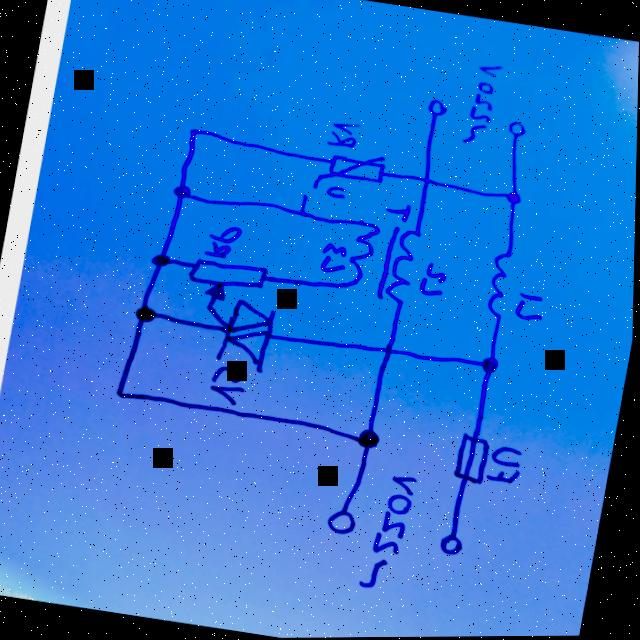crossover: (407, 166, 439, 197), (373, 335, 405, 365)
inductor: (483, 247, 520, 325)
junction: (132, 304, 162, 328), (357, 428, 384, 453), (477, 354, 502, 376), (150, 252, 173, 270), (110, 386, 133, 403), (505, 191, 526, 207), (184, 126, 204, 141), (171, 185, 191, 200)
resistor: (186, 255, 270, 307)
terminal: (325, 507, 364, 538), (438, 529, 468, 559), (503, 120, 530, 145), (423, 98, 450, 123)
text: (359, 472, 421, 594), (463, 61, 503, 150), (485, 444, 528, 488), (207, 366, 251, 408), (203, 223, 245, 262), (318, 242, 353, 278), (326, 119, 363, 153), (513, 292, 549, 325), (420, 262, 451, 300), (383, 202, 414, 225)
transformer: (339, 216, 429, 311)
